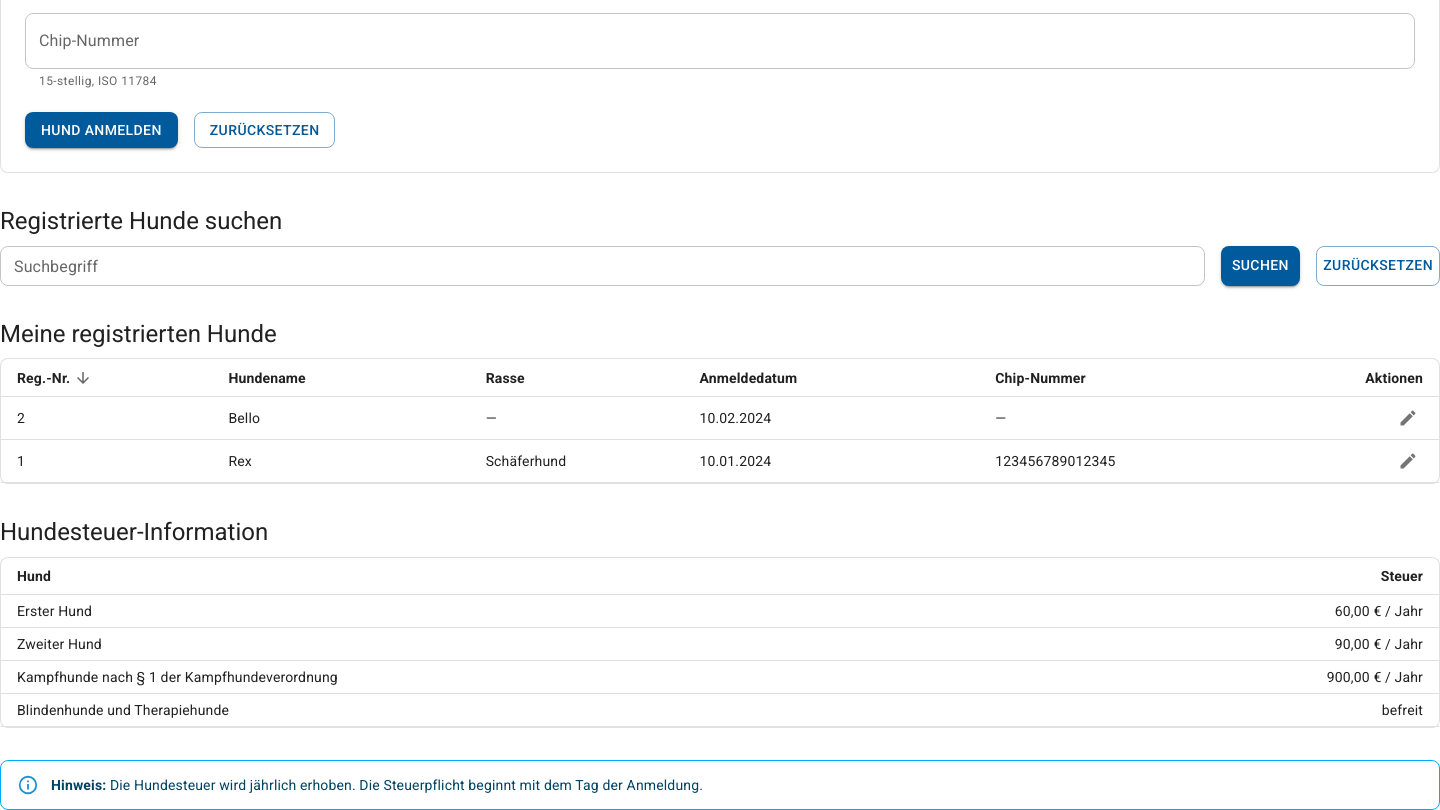
Test: DogRegistrationPage › edits a dog via the dialog
The width and height of the screenshot is (1440, 810).
(page scrolled)
Click the button named "Hund Rex bearbeiten".
click(1408, 461)  # box [1393,446,1423,476]
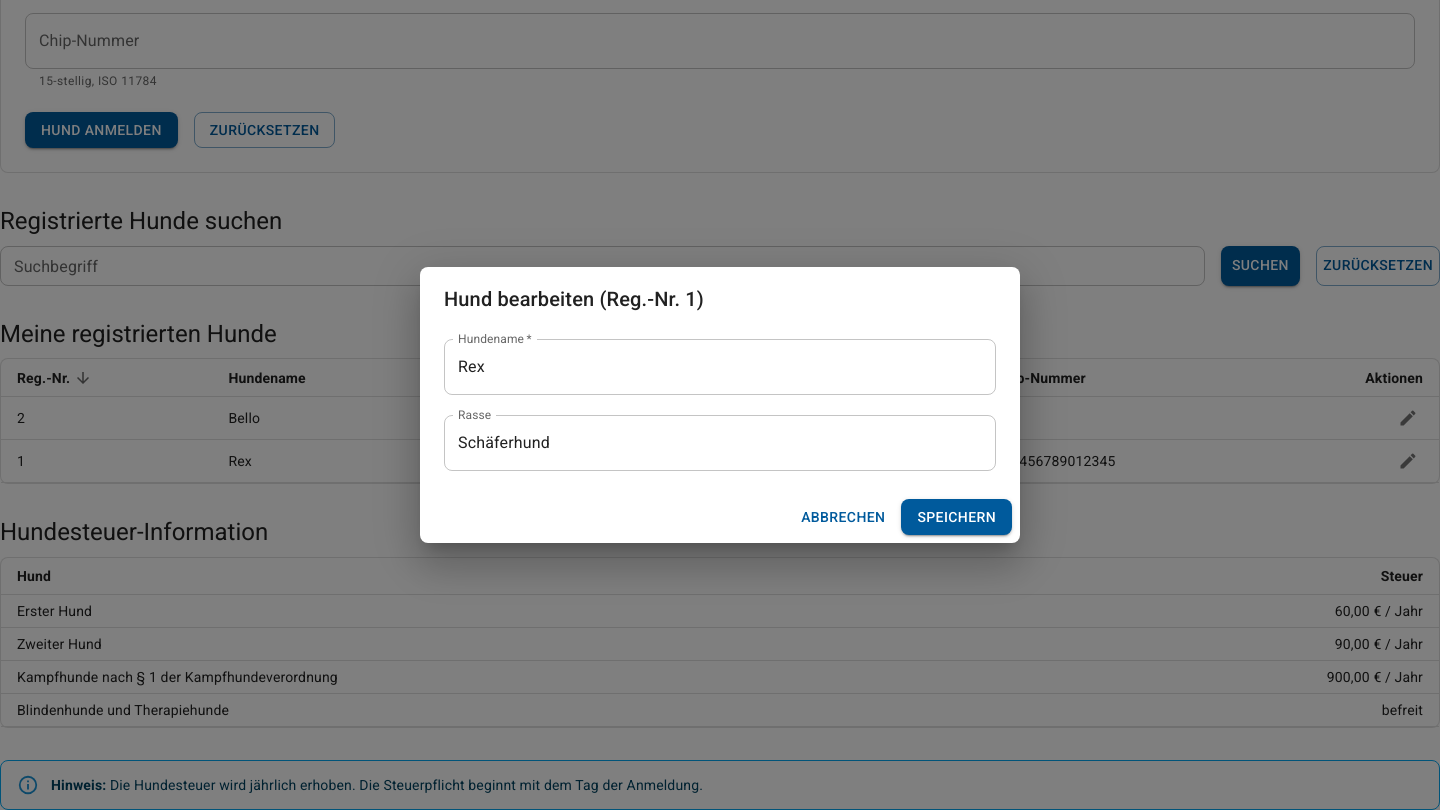
Replace the text in the field labelled "Hundename *" with "Rexi" at (720, 367), box [444,339,996,395]
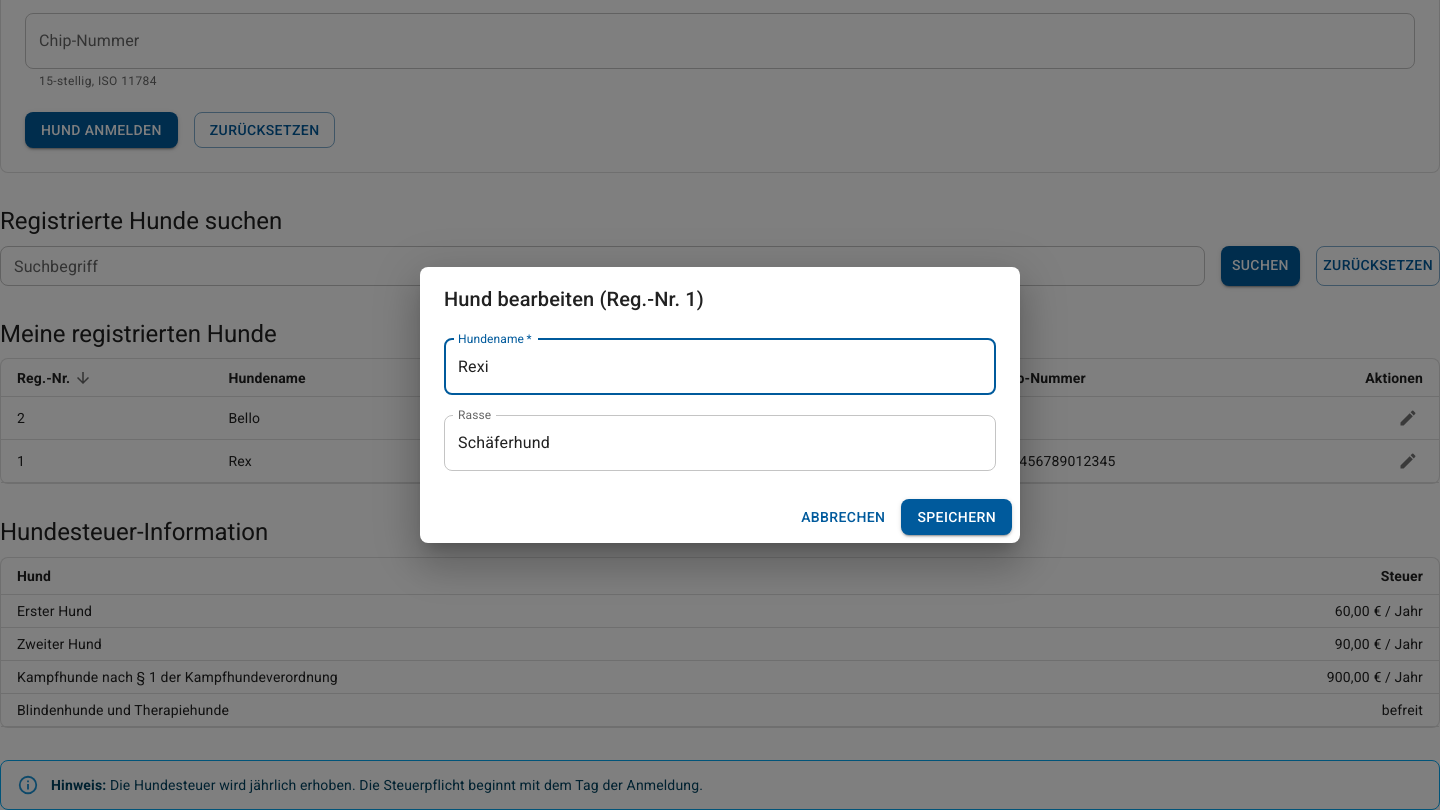
Click the button "Speichern".
click(957, 517)  # box [901,499,1012,535]
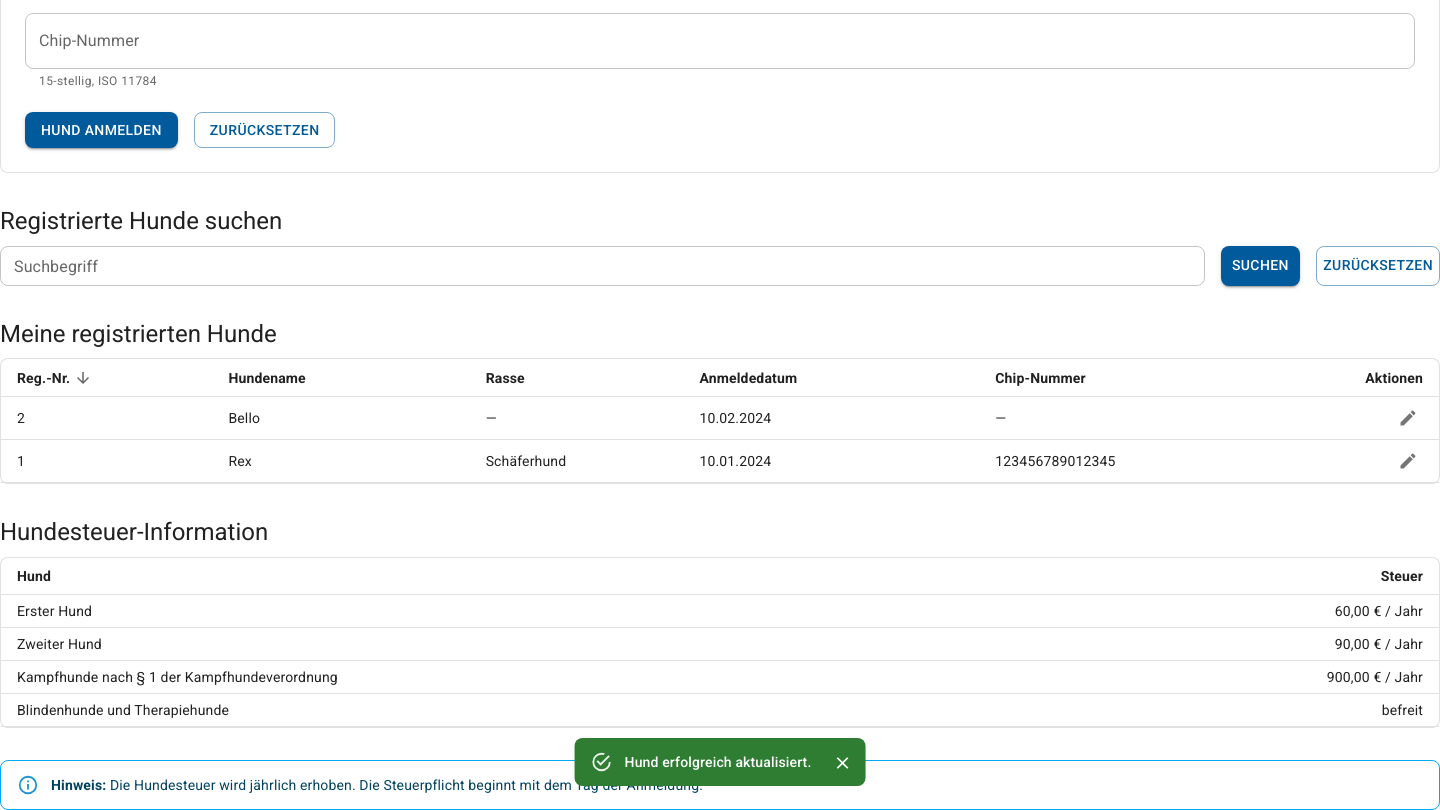
Now the text "Hund erfolgreich aktualisiert." is shown, box [625,754,812,770]
